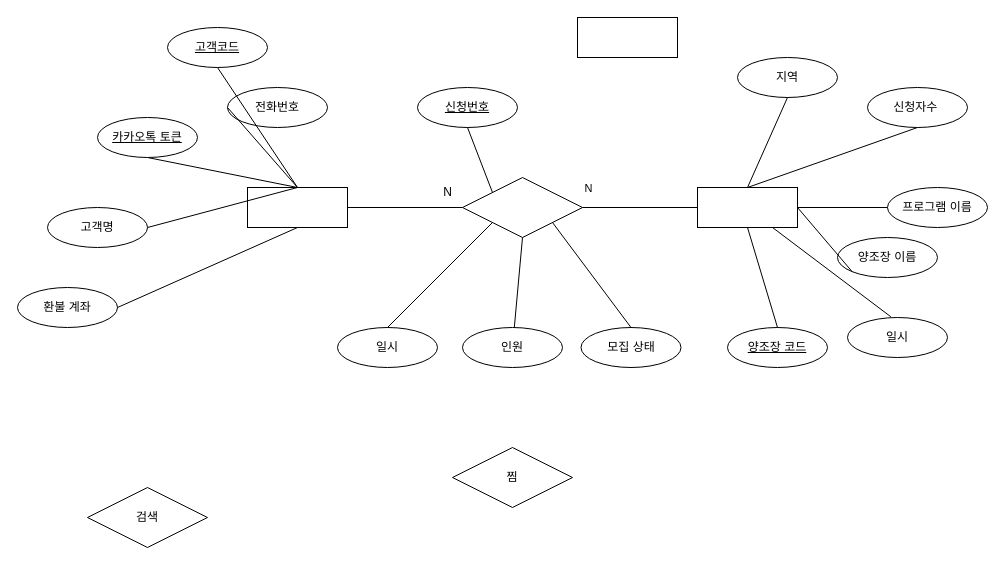
This 1005x565 diagram has some shape labels left out. Here are the shapes that lost their labels. From the top down, the centre of each, then its label:
At point 627,37: "뱃지".
At point 297,207: "고객".
At point 522,207: "신청".
At point 747,207: "양조장".
